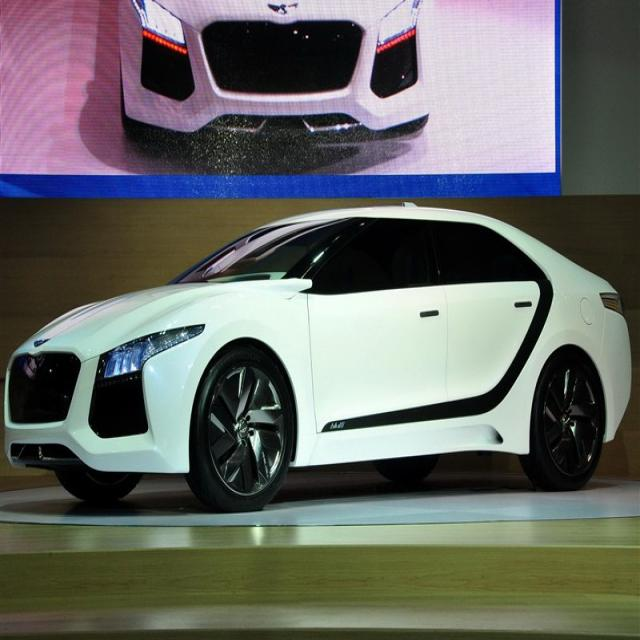back_left_side_light: (598, 288, 626, 323)
door: (435, 219, 558, 436)
front_bumper: (0, 353, 204, 482)
front_glass: (174, 214, 350, 284)
front_left_side_door: (296, 208, 454, 444)
front_left_side_light: (97, 316, 208, 383)
rear_bumper: (595, 307, 638, 442)
wheel: (195, 346, 292, 512), (526, 356, 602, 488)
